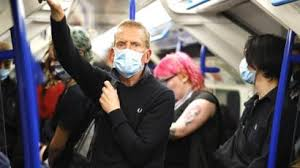mask: (114, 26, 145, 78), (238, 45, 264, 85)
